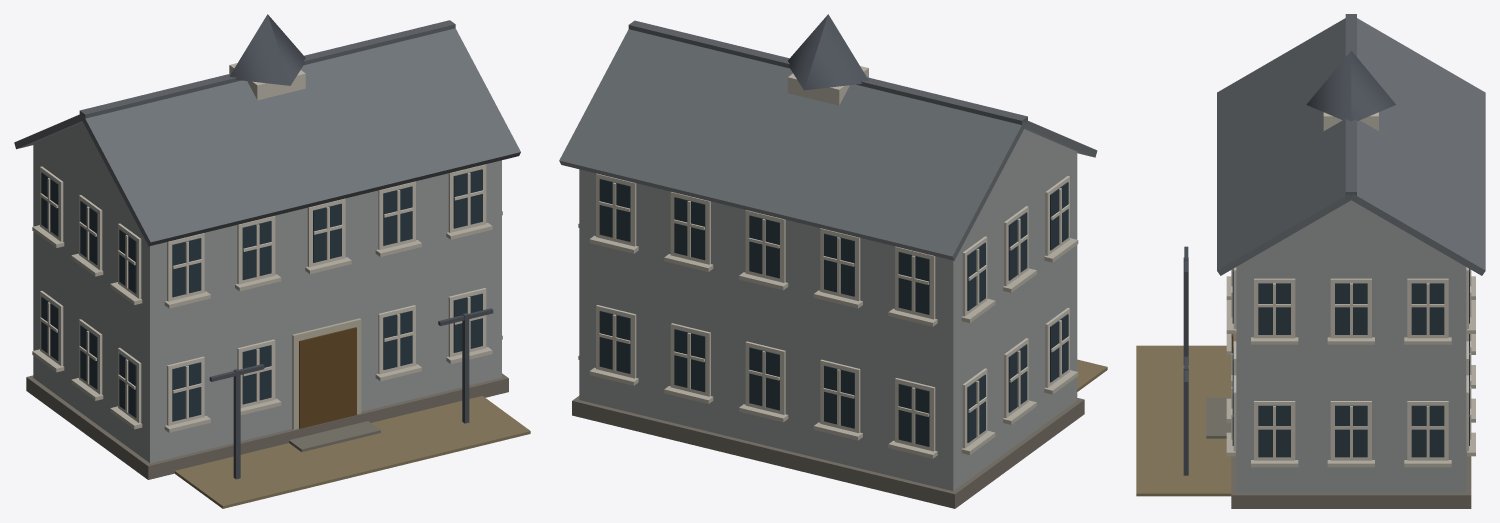
Rendered from procedural_school@6.glb.
3 views of the same model, side by side, from view 1: azimuth 30°, elevation 25°; view 2: azimuth 150°, elevation 25°; view 3: azimuth 270°, elevation 25° (orthographic). The views are drawn at different scales.
Parts seen in each view (by area): view 1: part_0; view 2: part_0; view 3: part_0.
Part boxes in pixels (x1=…): part_0: x1=14, y1=14, x2=530, y2=508; part_0: x1=559, y1=14, x2=1107, y2=508; part_0: x1=1136, y1=14, x2=1485, y2=508.
Bounding box in the file's own units: 8.42 × 8.2 × 6.99.
